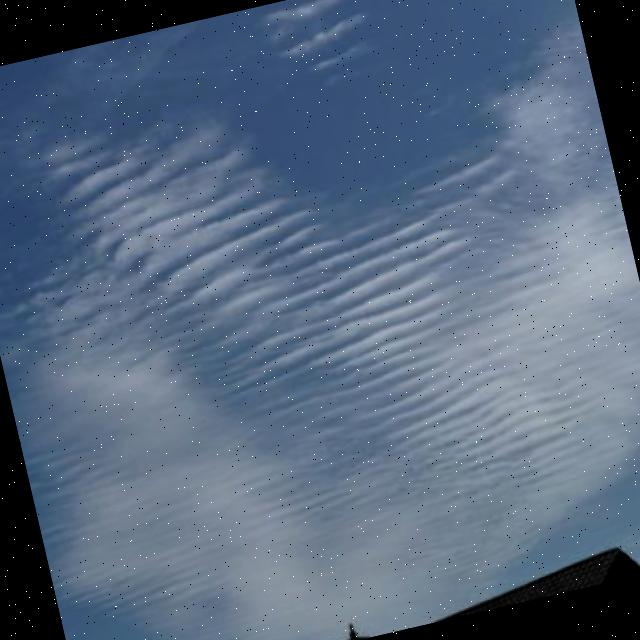Cc: (1, 6, 640, 613)
